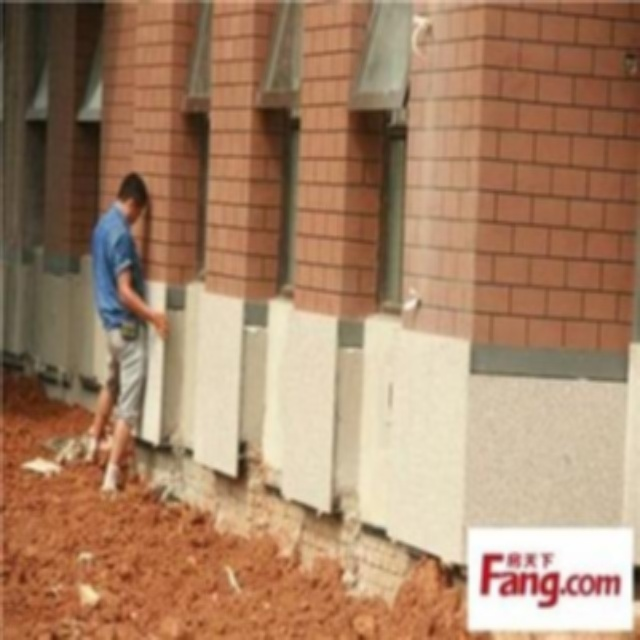Sin_Casco_Mascarrilla: (113, 172, 150, 227)
